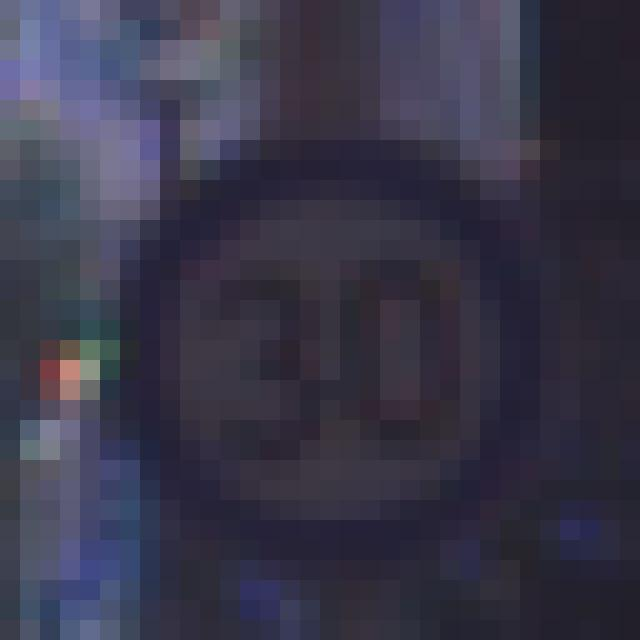SPEED LIMIT 30: (150, 172, 474, 526)
